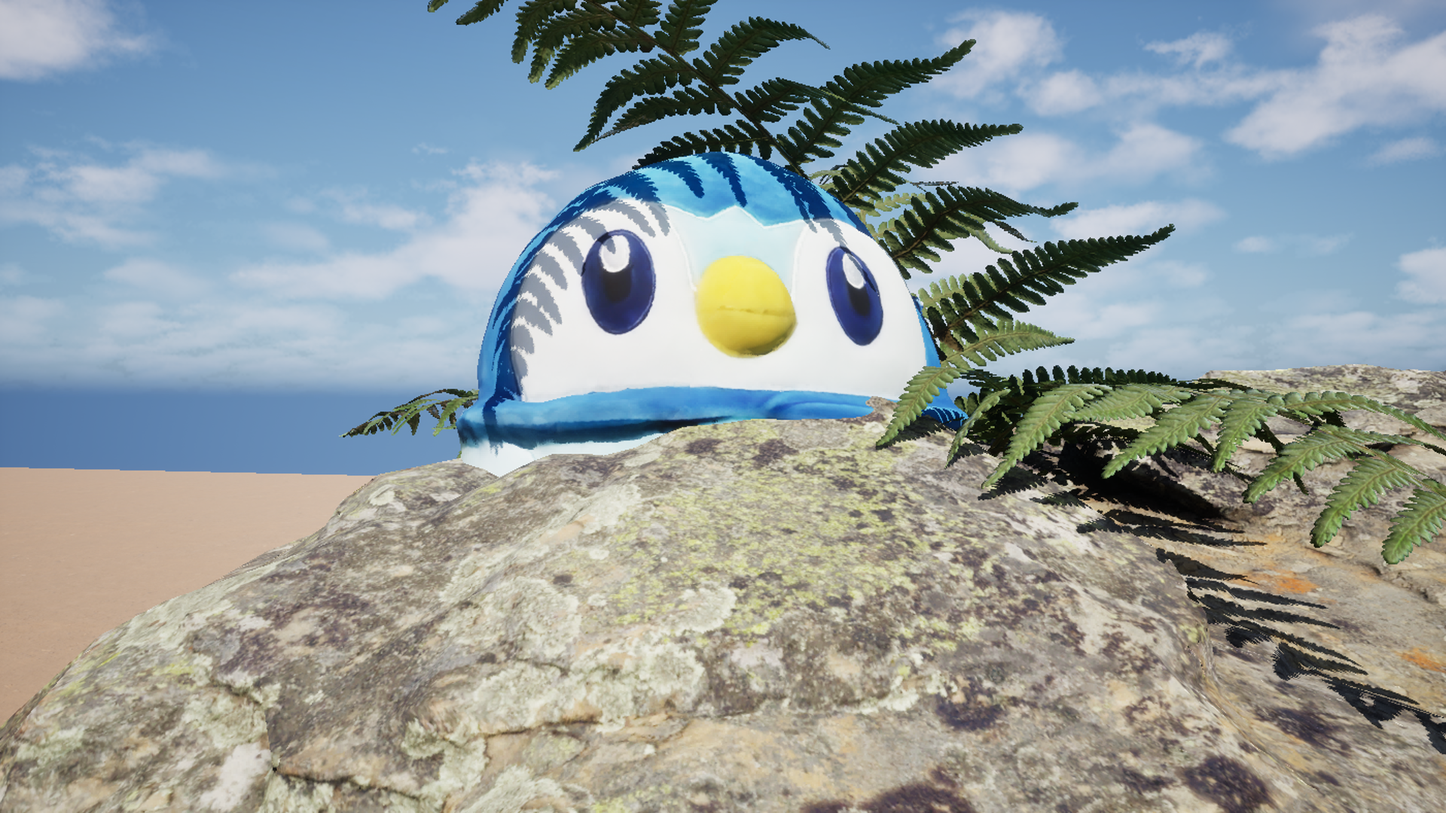Piplup: (220, 0, 1168, 813)
